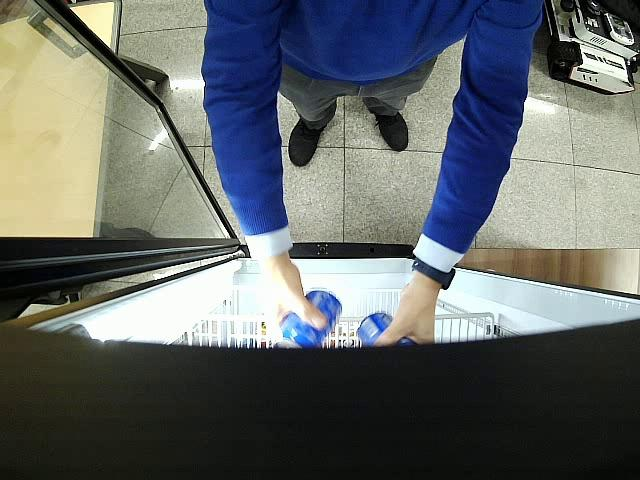00_hand: (259, 261, 329, 331), (373, 272, 439, 346)
13_pocariSweat: (274, 290, 342, 348), (358, 313, 417, 345)
